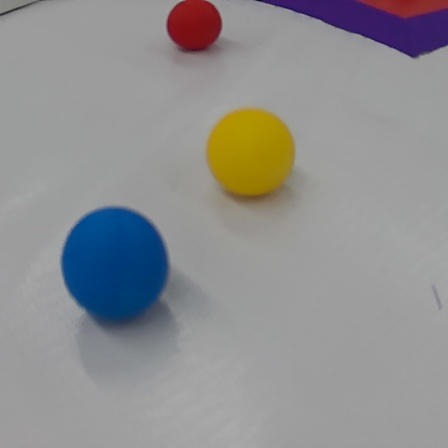blue: (59, 203, 177, 335)
red: (165, 2, 226, 54)
red_aim: (248, 0, 448, 66)
yellow: (204, 109, 300, 202)
